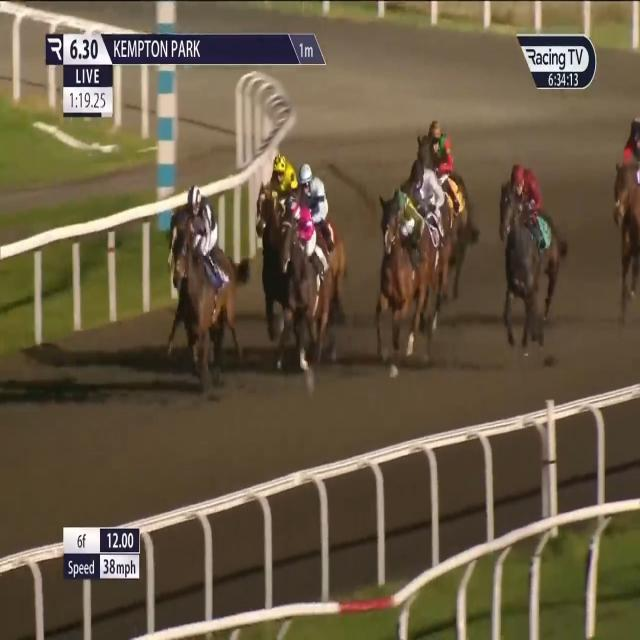horses-racing: (496, 156, 568, 341), (265, 198, 346, 362), (176, 181, 240, 380), (375, 187, 444, 357), (294, 156, 350, 310), (404, 150, 455, 291), (428, 113, 476, 259), (609, 120, 640, 294), (165, 198, 206, 318), (258, 143, 298, 261)
